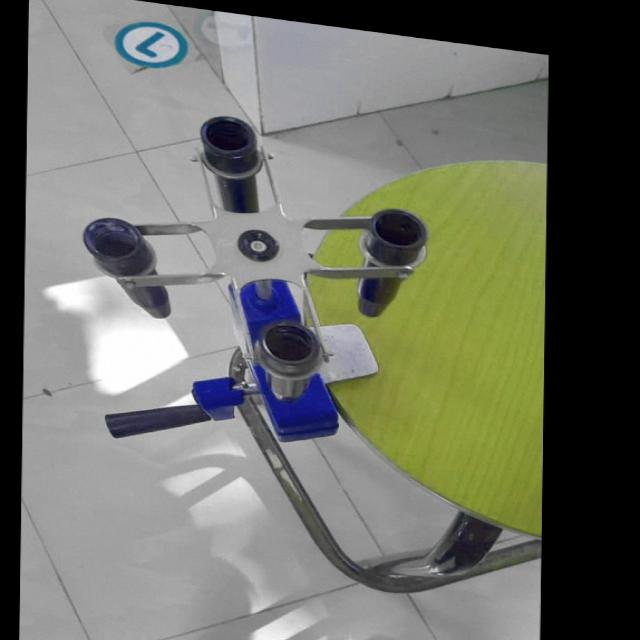Centrifuge: (50, 75, 428, 478)
